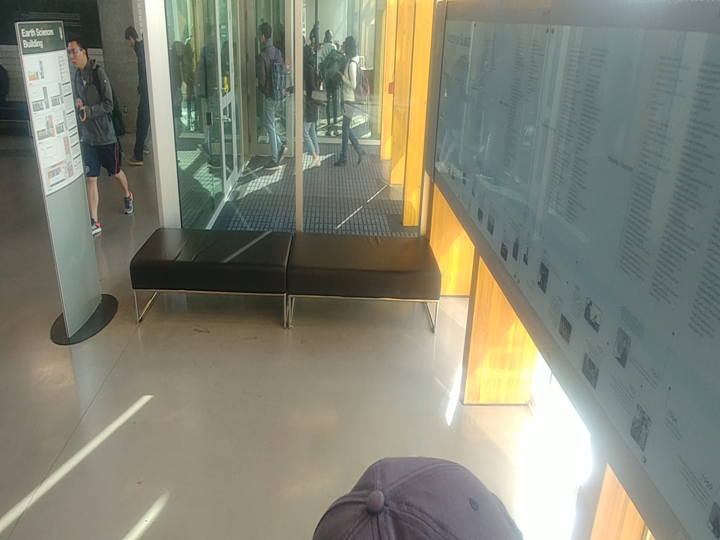face: (64, 30, 93, 72), (337, 34, 364, 62), (117, 23, 142, 50), (251, 19, 274, 46)
human: (63, 30, 137, 238), (250, 16, 292, 174), (302, 39, 330, 172)
